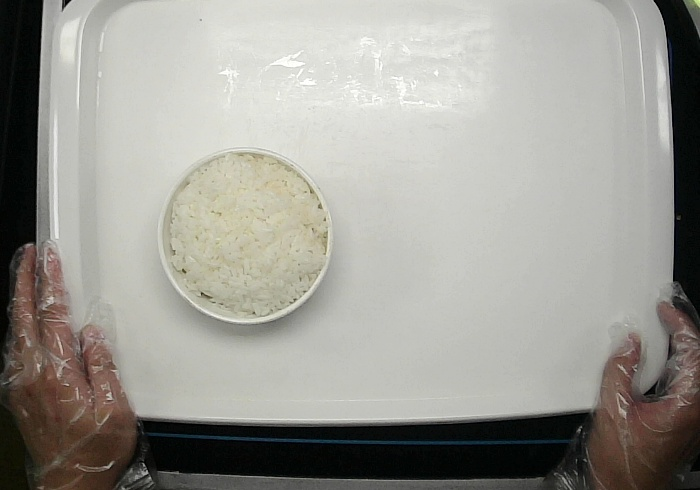HZYJPL-Fan_Wan: (158, 146, 332, 326)
